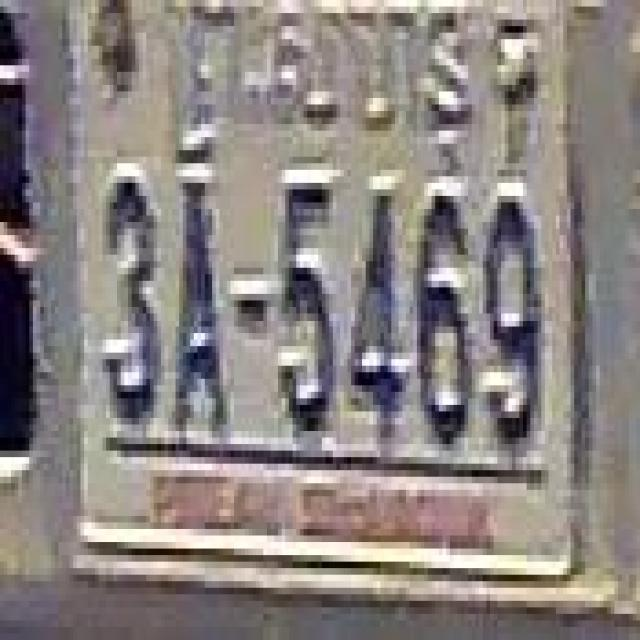Preah_Sihanouk: (165, 6, 471, 175)
